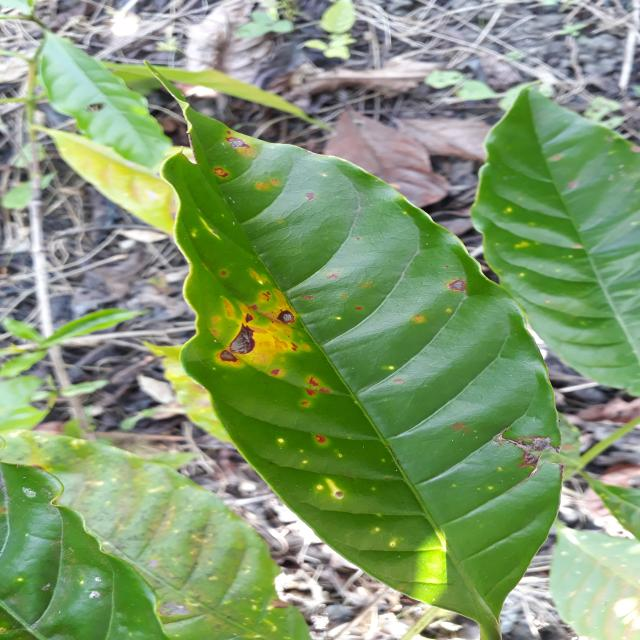Enfermedad-Roya: (32, 36, 590, 640)
